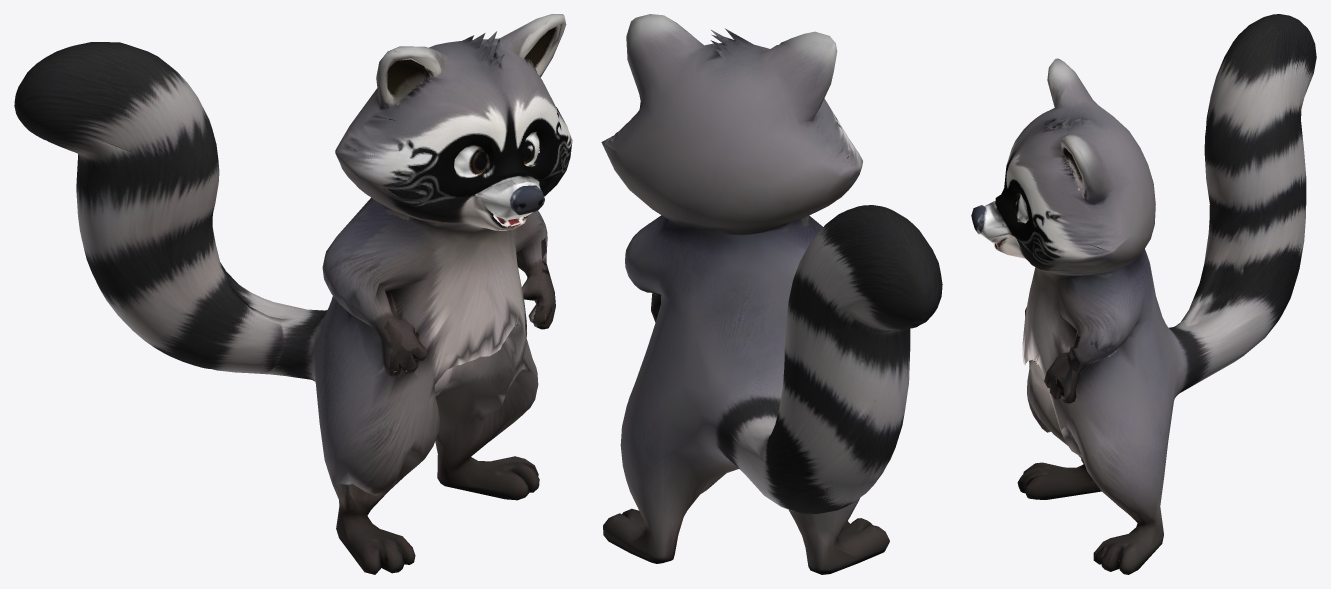
Rendered from C01_raccoon_hy_lod.glb.
3 renders of one model, left to right at view 1: azimuth 30°, elevation 25°; view 2: azimuth 150°, elevation 25°; view 3: azimuth 270°, elevation 25°, orthographic. The views are drawn at different scales.
Visible parts, largest first — view 1: C01_raccoon_hy; view 2: C01_raccoon_hy; view 3: C01_raccoon_hy.
Boxes of the visible parts, x1,y1,x2,y2 form: C01_raccoon_hy: [14, 14, 572, 574]; C01_raccoon_hy: [601, 14, 942, 574]; C01_raccoon_hy: [971, 14, 1316, 574].
Size of what is drawn, in the model's own units: 0.8249 by 0.917 by 0.6513.
1 material, 1 textured.
